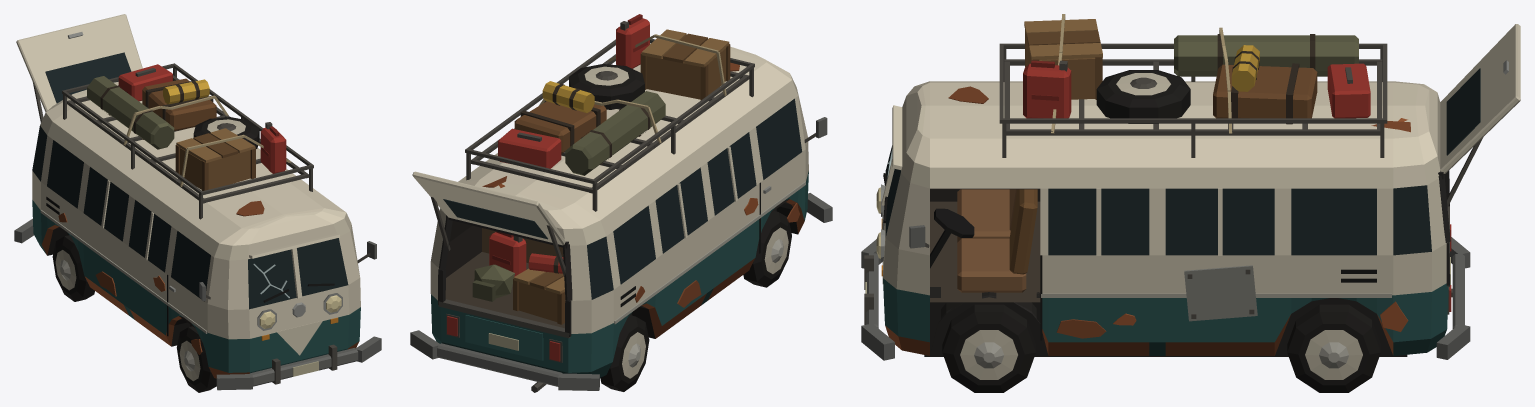
The model's file is carro.glb.
3 renders of one model, left to right at view 1: azimuth 30°, elevation 25°; view 2: azimuth 150°, elevation 25°; view 3: azimuth 270°, elevation 25°, orthographic. The views are drawn at different scales.
Visible parts, largest first — view 1: carro.001; view 2: carro.001; view 3: carro.001.
Boxes of the visible parts, x1,y1,x2,y2 form: carro.001: [14, 14, 381, 392]; carro.001: [410, 14, 832, 392]; carro.001: [861, 14, 1520, 392].
Bounding box in the file's own units: 2.03 × 2.46 × 4.78.
